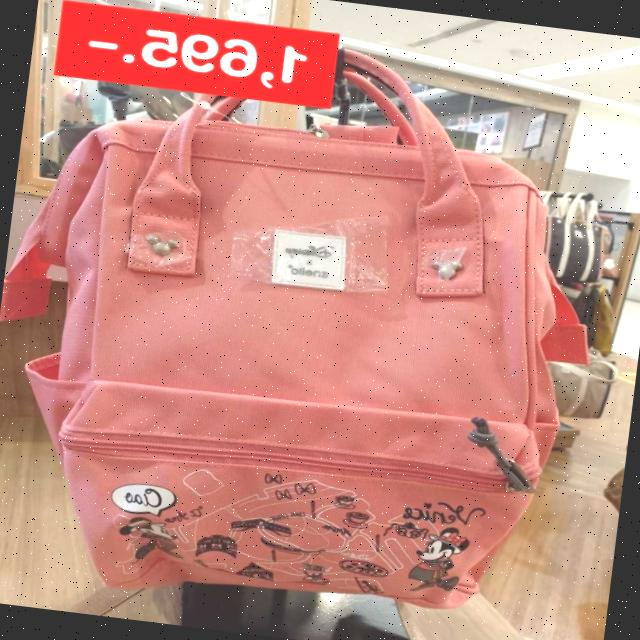handbag: (0, 75, 596, 627)
